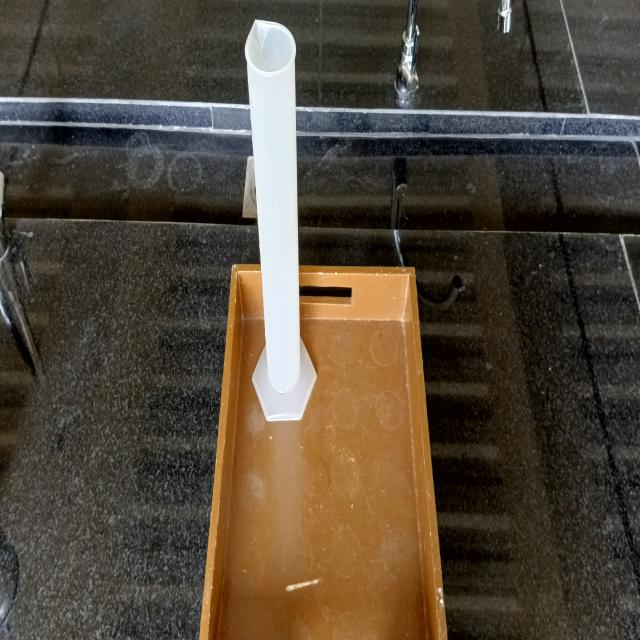graduated_cylinder: (224, 5, 320, 429)
